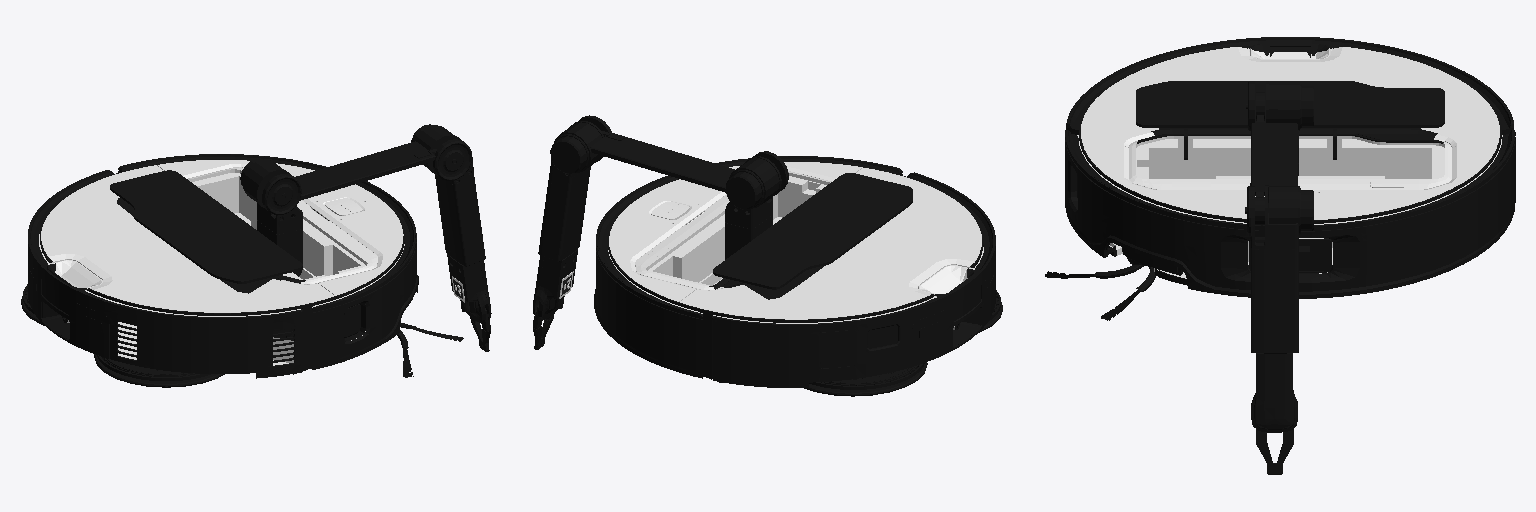
URDF robot description (z70):
<?xml version="1.0" ?><!-- =================================================================================== --><!-- |    This document was autogenerated by xacro from /Users/mpentax/Code/RRsZ70_ROS2/install/z70_description/share/z70_description/urdf/z70.urdf.xacro | --><!-- |    EDITING THIS FILE BY HAND IS NOT RECOMMENDED                                 | --><!-- =================================================================================== --><!--
  Roborock Saros Z70 - kinematic description.
  PROVISIONAL shared geometry: config/mount_calibration.yaml, 20261015.
  L2=0.205 and the vendor shoulder reference define a coordinate gauge, NOT measured wrist anatomy.
  M4 zero/physical L2 remain confounded with unknown marker mounts. Firmware FK stays in arm_model.py.
  Display assembly length follows rough owner tape; internal wrist/finger split and M6 remain provisional.
  M5 stays at the nominal gauge station; rolling visuals are translated back along the same x axis.

  URDF joint values (radians) from app angles (degrees), computed in z70_bridge:
    m3_joint = rad(M3 - 270)      link1 absolute app angle = 270 - M3 (from +x toward up)
    m4_joint = rad(180 - M4)      link2 relative to link1 = M4 - 180
    m5_joint = -rad(M5), axis -x  => physical positive roll (live 20261014T144906Z)
    m6 drive = rad(M6)/2; photo-estimated articulation mimics this with multiplier
    2*opening_ratio (pincher_geometry.yaml); nominal0 closed/90 open, not feedback.
--><robot name="z70"><material name="body"><color rgba="0.96 0.96 0.96 1"/></material><material name="moving"><color rgba="0.12 0.12 0.12 1"/></material><material name="arm"><color rgba="0.2 0.2 0.2 1"/></material><material name="cam"><color rgba="0.1 0.4 0.9 1"/></material><material name="pincher_shell"><color rgba="0.10 0.105 0.115 1"/></material><material name="pincher_glass"><color rgba="0.025 0.03 0.035 1"/></material><material name="pincher_hardware"><color rgba="0.62 0.58 0.50 1"/></material><material name="pincher_collar"><color rgba="0.42 0.42 0.44 1"/></material><material name="pincher_bowl"><color rgba="0.12 0.12 0.13 1"/></material><material name="pincher_rib"><color rgba="0.34 0.34 0.36 1"/></material><material name="marker_white"><color rgba="0.96 0.96 0.96 1"/></material><link name="base_footprint"/><link name="base_link"><visual><geometry><mesh filename="package://z70_description/meshes/cad/cad_body.stl"/></geometry><material name="body"/></visual><visual><geometry><mesh filename="package://z70_description/meshes/cad/cad_wheels.stl"/></geometry><material name="moving"/></visual><visual><geometry><mesh filename="package://z70_description/meshes/cad/cad_mops.stl"/></geometry><material name="moving"/></visual><visual><geometry><mesh filename="package://z70_description/meshes/cad/cad_spinners.stl"/></geometry><material name="moving"/></visual><visual><geometry><mesh filename="package://z70_description/meshes/cad/cad_lenses.stl"/></geometry><material name="moving"/></visual></link><joint name="base_joint" type="fixed"><parent link="base_footprint"/><child link="base_link"/></joint><!-- front RGB camera --><link name="camera_link"><visual><geometry><box size="0.01 0.03 0.015"/></geometry><material name="moving"/></visual></link><joint name="camera_joint" type="fixed"><parent link="base_link"/><child link="camera_link"/><!-- New-run floor normal; roll is required for projector/optical-TF agreement. --><origin rpy="-0.007257016757390962 -0.02371494019965833 0" xyz="0.275 0 0.058233433935542395"/></joint><link name="camera_optical_frame"/><joint name="camera_optical_joint" type="fixed"><parent link="camera_link"/><child link="camera_optical_frame"/><origin rpy="-1.5707963267948966 0 -1.5707963267948966"/></joint><link name="bumper_front"><visual><geometry><mesh filename="package://z70_description/meshes/cad/cad_bumper_front.stl"/></geometry><material name="moving"/></visual></link><joint name="bumper_front_mount" type="fixed"><parent link="base_link"/><child link="bumper_front"/></joint><link name="bumper_rear"><visual><geometry><mesh filename="package://z70_description/meshes/cad/cad_bumper_rear.stl"/></geometry><material name="moving"/></visual></link><joint name="bumper_rear_mount" type="fixed"><parent link="base_link"/><child link="bumper_rear"/></joint><link name="arm_lid_base"><visual><geometry><mesh filename="package://z70_description/meshes/cad/cad_lid_base.stl"/></geometry><material name="moving"/></visual></link><joint name="arm_lid_base_mount" type="fixed"><parent link="base_link"/><child link="arm_lid_base"/></joint><link name="arm_compartment_lid"><visual><geometry><mesh filename="package://z70_description/meshes/cad/cad_lid.stl"/></geometry><material name="moving"/></visual></link><joint name="arm_lid" type="revolute"><parent link="base_link"/><child link="arm_compartment_lid"/><origin xyz="0.0348 0 0.0966"/><axis xyz="0 1 0"/><limit effort="1" lower="-1.2" upper="0" velocity="1"/></joint><!-- Lift brings the shoulder up from the side. Yaw then turns the raised arm from sideways to forward. --><link name="shoulder_lift_link"/><link name="shoulder_yaw_link"><visual><geometry><mesh filename="package://z70_description/meshes/cad/cad_shoulder_mount.stl"/></geometry><material name="moving"/></visual></link><link name="arm_shoulder_link"/><link name="arm_vendor_frame"/><joint name="arm_mount" type="fixed"><parent link="base_footprint"/><child link="arm_vendor_frame"/><origin rpy="0 0 -0.0022922989427041425" xyz="0.10101740063232861 0.0006254253508872214 -0.013569708475697051"/></joint><joint name="shoulder_lift" type="revolute"><parent link="arm_vendor_frame"/><child link="shoulder_lift_link"/><origin xyz="0.0377 -0.0177 0.0716"/><axis xyz="-1 0 0"/><limit effort="5" lower="0" upper="1.5707963267948966" velocity="1"/></joint><joint name="shoulder_yaw" type="revolute"><parent link="shoulder_lift_link"/><child link="shoulder_yaw_link"/><origin xyz="0.004210742863601513 0.005470614386068454 0.06856970847569707"/><axis xyz="0 0 1"/><limit effort="5" lower="-1.5707963267948966" upper="1.5707963267948966" velocity="1"/></joint><joint name="arm_shoulder_mount" type="fixed"><parent link="arm_vendor_frame"/><child link="arm_shoulder_link"/><!-- Yaw 0 is the straight unstow estimate, arm in the forward plane. --><origin rpy="0 0 0" xyz="0.04191074286360151 -0.012229385613931547 0.14016970847569707"/></joint><link name="arm_link1"><visual><geometry><mesh filename="package://z70_description/meshes/cad/cad_link1.stl"/></geometry><material name="moving"/></visual></link><joint name="m3_joint" type="revolute"><parent link="arm_shoulder_link"/><child link="arm_link1"/><origin rpy="0 0.039630310698817714 0"/><axis xyz="0 1 0"/><limit effort="5" lower="-3.141592653589793" upper="0" velocity="1"/></joint><link name="arm_link2"><visual><geometry><mesh filename="package://z70_description/meshes/cad/cad_link2.stl"/></geometry><material name="moving"/></visual></link><joint name="m4_joint" type="revolute"><parent link="arm_link1"/><child link="arm_link2"/><origin rpy="0 -0.039630310698817714 0" xyz="0.1772 0 0"/><axis xyz="0 1 0"/><limit effort="5" lower="0.17453292519943295" upper="2.5307274153917776" velocity="1"/></joint><!-- Camera rolls with M5 (measured 20261014T144906Z); nominal L2 is only a gauge. --><link name="gripper_camera_link"><!-- Small glass surface INSIDE the shared shell's real pocket. +X is view direction. --><visual><geometry><mesh filename="package://z70_description/meshes/pincher_lens.stl"/></geometry><material name="moving"/></visual></link><joint name="gripper_camera_mount" type="fixed"><parent link="arm_wrist_link"/><child link="gripper_camera_link"/><origin rpy="0.0 0.0 0.0" xyz="0.0355 0.0075 -0.0109"/></joint><link name="gripper_camera_optical_frame"/><joint name="gripper_camera_optical_joint" type="fixed"><parent link="gripper_camera_link"/><child link="gripper_camera_optical_frame"/><origin rpy="-1.5707963267948966 0 -1.5707963267948966"/></joint><link name="arm_wrist_link"><!-- Broad upper face follows the wrist, not the marker-plane orientation.
         Small marker backing is local; cavity and hidden anatomy provisional. --><visual><geometry><mesh filename="package://z70_description/meshes/cad/cad_hand.stl"/></geometry><material name="moving"/></visual><collision><origin xyz="0.0138 0 -0.00175732744058"/><geometry><box size="0.067 0.032 0.0215146548812"/></geometry></collision></link><joint name="m5_joint" type="revolute"><parent link="arm_link2"/><child link="arm_wrist_link"/><origin xyz="0.1157 0 0"/><axis xyz="-1 0 0"/><limit effort="5" lower="-2.705260340591211" upper="0" velocity="1"/></joint><link name="m6_left_drive"/><joint name="m6_left_joint" type="revolute"><parent link="arm_wrist_link"/><child link="m6_left_drive"/><axis xyz="0 0 1"/><limit effort="1" lower="0" upper="0.7853981633974483" velocity="1"/></joint><link name="finger_left"><collision><origin xyz="-0.00374 0 -1.08420217249e-19"/><geometry><box size="0.00748 0.0072 0.0036"/></geometry></collision><collision><origin xyz="0.00136 -0.001 0"/><geometry><box size="0.00272 0.008 0.003"/></geometry></collision><collision><origin xyz="0.00408 -0.003 -1.08420217249e-19"/><geometry><box size="0.00272 0.004 0.0022"/></geometry></collision><collision><origin xyz="0.01088 -0.003 -1.08420217249e-19"/><geometry><box size="0.01088 0.0034 0.002"/></geometry></collision><collision><origin xyz="0.01836 -0.0055 0"/><geometry><box size="0.00408 0.008 0.0018"/></geometry></collision><collision><origin xyz="0.02482 -0.0084 0"/><geometry><box size="0.00884 0.0038 0.0018"/></geometry></collision><collision><origin xyz="0.03162 -0.009 0"/><geometry><box size="0.00476 0.0026 0.0016"/></geometry></collision></link><joint name="finger_left_articulation" type="revolute"><parent link="arm_wrist_link"/><child link="finger_left"/><origin xyz="0.0343 0.018 0.0"/><axis xyz="0 0 1"/><limit effort="1" lower="0" upper="1.0471975511965976" velocity="1"/><mimic joint="m6_left_joint" multiplier="1.3333333333333333" offset="0"/></joint><link name="m6_right_drive"/><joint name="m6_right_joint" type="revolute"><parent link="arm_wrist_link"/><child link="m6_right_drive"/><axis xyz="0 0 -1"/><limit effort="1" lower="0" upper="0.7853981633974483" velocity="1"/></joint><link name="finger_right"><collision><origin xyz="-0.00374 0 -1.08420217249e-19"/><geometry><box size="0.00748 0.0072 0.0036"/></geometry></collision><collision><origin xyz="0.00136 0.001 0"/><geometry><box size="0.00272 0.008 0.003"/></geometry></collision><collision><origin xyz="0.00408 0.003 -1.08420217249e-19"/><geometry><box size="0.00272 0.004 0.0022"/></geometry></collision><collision><origin xyz="0.01088 0.003 -1.08420217249e-19"/><geometry><box size="0.01088 0.0034 0.002"/></geometry></collision><collision><origin xyz="0.01836 0.0055 0"/><geometry><box size="0.00408 0.008 0.0018"/></geometry></collision><collision><origin xyz="0.02482 0.0084 0"/><geometry><box size="0.00884 0.0038 0.0018"/></geometry></collision><collision><origin xyz="0.03162 0.009 0"/><geometry><box size="0.00476 0.0026 0.0016"/></geometry></collision></link><joint name="finger_right_articulation" type="revolute"><parent link="arm_wrist_link"/><child link="finger_right"/><origin xyz="0.0343 -0.018 0.0"/><axis xyz="0 0 -1"/><limit effort="1" lower="0" upper="1.0471975511965976" velocity="1"/><mimic joint="m6_right_joint" multiplier="1.3333333333333333" offset="0"/></joint><link name="jaw_left"><visual><geometry><mesh filename="package://z70_description/meshes/cad/cad_jaw_left.stl"/></geometry><material name="moving"/></visual></link><joint name="jaw_left" type="revolute"><parent link="arm_wrist_link"/><child link="jaw_left"/><origin xyz="0.0515 0.0106 0.0041"/><axis xyz="0 0 1"/><limit effort="1" lower="0" upper="1.0471975511965976" velocity="1"/><mimic joint="m6_left_joint" multiplier="1.3333333333333333" offset="0"/></joint><link name="jaw_right"><visual><geometry><mesh filename="package://z70_description/meshes/cad/cad_jaw_right.stl"/></geometry><material name="moving"/></visual></link><joint name="jaw_right" type="revolute"><parent link="arm_wrist_link"/><child link="jaw_right"/><origin xyz="0.0515 -0.0101 0.0041"/><axis xyz="0 0 -1"/><limit effort="1" lower="0" upper="1.0471975511965976" velocity="1"/><mimic joint="m6_right_joint" multiplier="1.3333333333333333" offset="0"/></joint><!-- ID68 is on the underside of the pincher, not at the nominal wrist.
       CAD-face registration in cad_arm.yaml: photo-oriented, owner-adjusted provisional
       placement, not the historical free optical fit. Paper thickness is illustrative. --><link name="pincher_marker_68"><visual><origin xyz="0 0 -0.0001"/><geometry><box size="0.02 0.02 0.0003"/></geometry><material name="marker_white"/></visual><visual><origin xyz="0 0 0.0002"/><geometry><box size="0.015 0.015 0.00015"/></geometry><material name="arm"/></visual><!-- DICT_4X4_1000 id 68 white modules, 15mm square, 6x6 including border. --><visual><origin xyz="-0.00375 0.00375 0.0004"/><geometry><box size="0.0025 0.0025 0.0006"/></geometry><material name="marker_white"/></visual><visual><origin xyz="-0.00125 0.00125 0.0004"/><geometry><box size="0.0025 0.0025 0.0006"/></geometry><material name="marker_white"/></visual><visual><origin xyz="0.00375 0.00125 0.0004"/><geometry><box size="0.0025 0.0025 0.0006"/></geometry><material name="marker_white"/></visual><visual><origin xyz="-0.00375 -0.00125 0.0004"/><geometry><box size="0.0025 0.0025 0.0006"/></geometry><material name="marker_white"/></visual><visual><origin xyz="0.00375 -0.00125 0.0004"/><geometry><box size="0.0025 0.0025 0.0006"/></geometry><material name="marker_white"/></visual><visual><origin xyz="-0.00375 -0.00375 0.0004"/><geometry><box size="0.0025 0.0025 0.0006"/></geometry><material name="marker_white"/></visual><visual><origin xyz="-0.00125 -0.00375 0.0004"/><geometry><box size="0.0025 0.0025 0.0006"/></geometry><material name="marker_white"/></visual></link><joint name="pincher_marker_68_mount" type="fixed"><parent link="arm_wrist_link"/><child link="pincher_marker_68"/><origin rpy="3.2195592874213355 0.0 1.5707963267948966" xyz="0.024 0.0 -0.0141"/></joint><link name="gripper_tcp"/><joint name="tcp_joint" type="fixed"><parent link="arm_wrist_link"/><child link="gripper_tcp"/><!-- Provisional marker-relative terminal-region surrogate, not an exact pad/contact-seam midpoint; physical M5 station and pad anatomy remain unmeasured. --><origin xyz="0.046797717832082 -0.0011288909068253214 0.019629324213822588"/></joint></robot>

--- Render facts (derived) ---
Views: 3 orthographic renders of the robot side by side, from view 1: azimuth 30°, elevation 25°; view 2: azimuth 150°, elevation 25°; view 3: azimuth 270°, elevation 25°.
Model z70 with 25 links and 24 joints (12 revolute, 12 fixed), rooted at base_footprint, posed joints at zero except 1 at the middle of their limits (m4_joint = 1.35).
Links seen in each view (by area): view 1: base_link, bumper_rear, arm_compartment_lid, bumper_front, arm_link2, shoulder_yaw_link, arm_link1, arm_wrist_link, arm_lid_base; view 2: base_link, bumper_rear, arm_compartment_lid, bumper_front, arm_link2, shoulder_yaw_link, arm_link1, arm_wrist_link, arm_lid_base; view 3: base_link, bumper_front, arm_compartment_lid, arm_link2, bumper_rear, arm_link1, arm_wrist_link, arm_lid_base, shoulder_yaw_link.
Link boxes in pixels (box(x1,y1,x2,y2)): base_link: box(21, 160, 463, 387); bumper_rear: box(28, 165, 318, 378); arm_compartment_lid: box(110, 170, 302, 283); bumper_front: box(126, 154, 418, 368); arm_link2: box(411, 124, 485, 266); shoulder_yaw_link: box(240, 159, 302, 276); arm_link1: box(295, 141, 436, 200); arm_wrist_link: box(447, 254, 491, 322); arm_lid_base: box(117, 198, 305, 293); base_link: box(608, 162, 1002, 396); bumper_rear: box(696, 167, 995, 387); arm_compartment_lid: box(713, 173, 912, 289); bumper_front: box(594, 156, 895, 376); arm_link2: box(538, 115, 611, 261); shoulder_yaw_link: box(725, 151, 788, 259); arm_link1: box(590, 131, 734, 192); arm_wrist_link: box(533, 249, 577, 319); arm_lid_base: box(709, 265, 825, 299); base_link: box(1045, 47, 1502, 320); bumper_front: box(1065, 132, 1515, 298); arm_compartment_lid: box(1136, 81, 1444, 127); arm_link2: box(1245, 185, 1313, 353); bumper_rear: box(1065, 37, 1514, 199); arm_link1: box(1250, 92, 1297, 224); arm_wrist_link: box(1251, 353, 1297, 432); arm_lid_base: box(1137, 128, 1443, 159); shoulder_yaw_link: box(1246, 81, 1313, 175).
Bounding box of the posed robot: 0.4427 × 0.3662 × 0.2331 m (x, y, z).
16 mesh visuals loaded from 16 distinct referenced files (16 binary STL).
